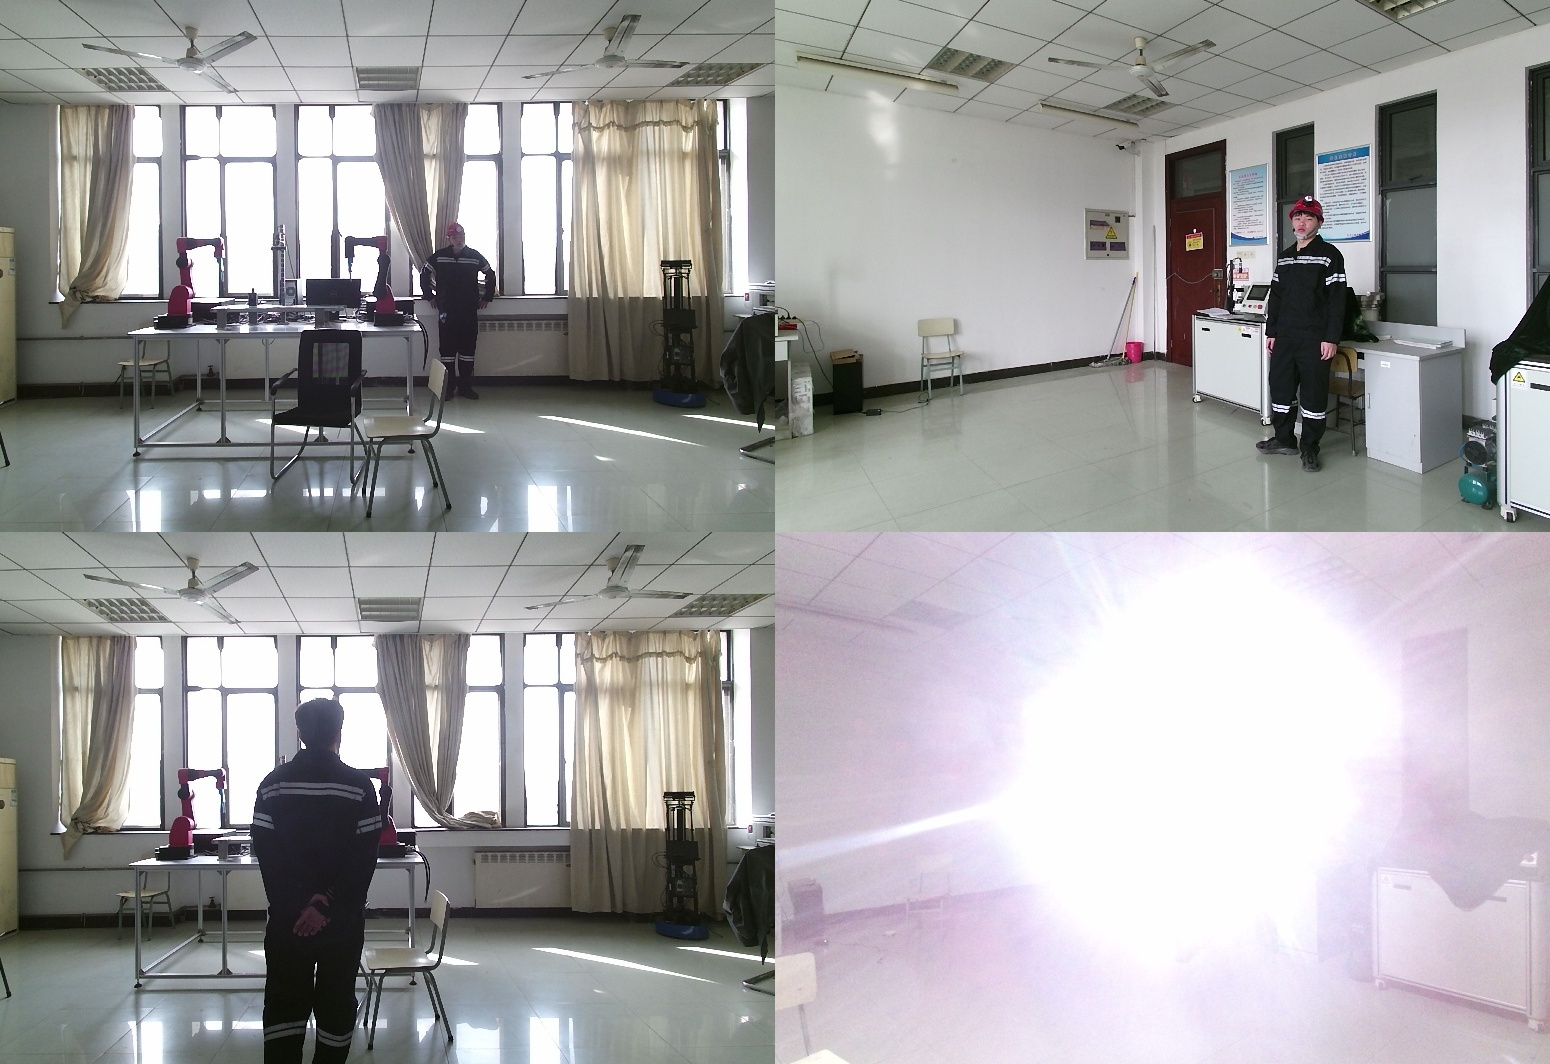person: (249, 699, 398, 1064), (1264, 195, 1356, 470), (1149, 747, 1226, 963), (420, 224, 499, 404)
